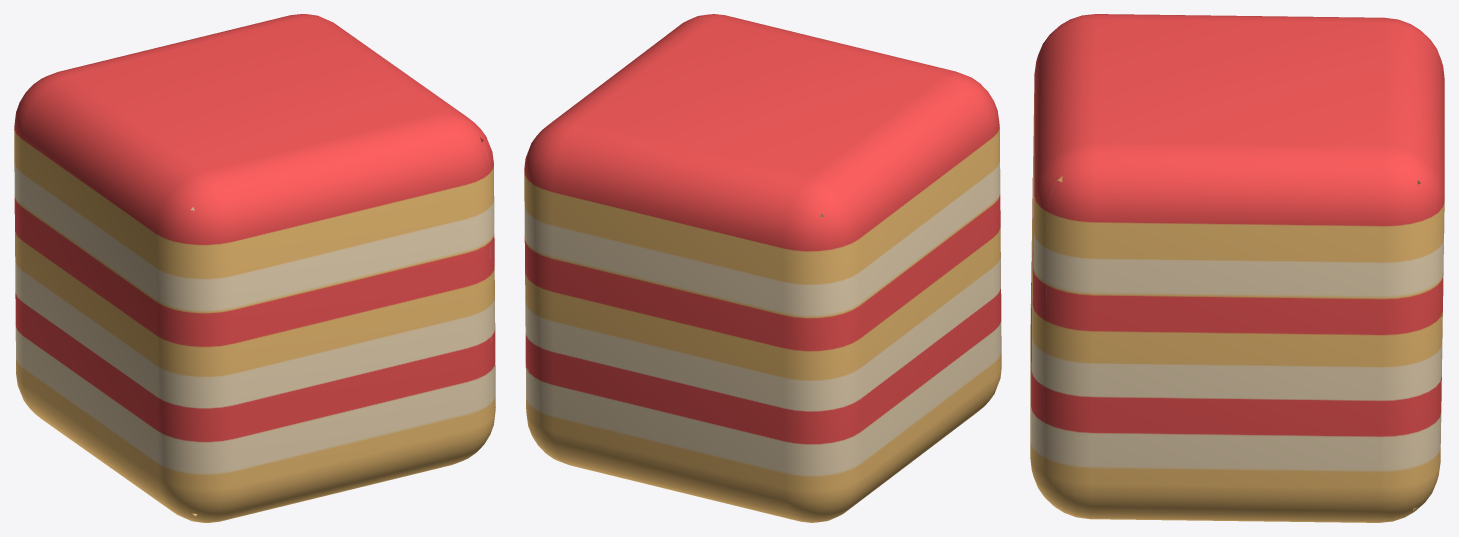
File: block_crepe.fbx
3 views of the same model, side by side, from view 1: azimuth 30°, elevation 25°; view 2: azimuth 150°, elevation 25°; view 3: azimuth 270°, elevation 25° (orthographic). The views are drawn at different scales.
Parts seen in each view (by area): view 1: 큐브; view 2: 큐브; view 3: 큐브.
Part boxes in pixels (box(x1,y1,x2,y2)): 큐브: box(14, 14, 495, 522); 큐브: box(524, 14, 1001, 522); 큐브: box(1030, 14, 1444, 522).
Size of the model in its own units: 30398 by 30703 by 30703.
1 material, 1 textured.
